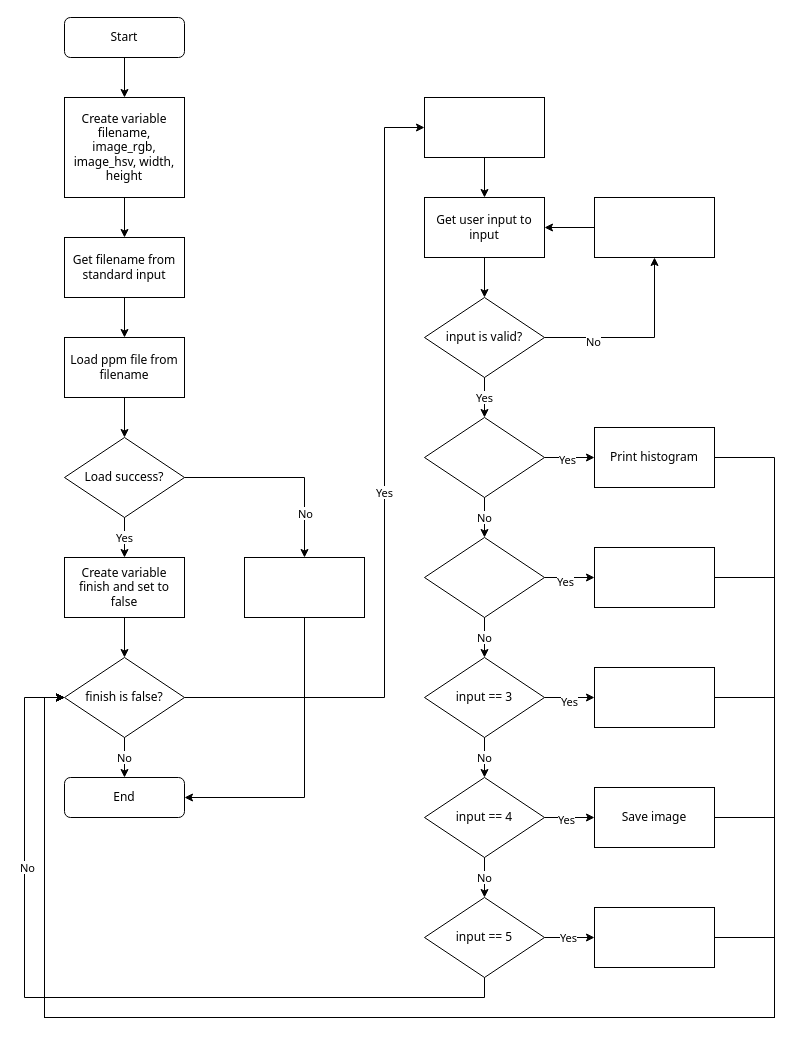
This 800x1043 diagram has some shape labels left out. The shapes that lost their labels are listed below. From the top down, each one's centre as x and y in pixels, then its label:
the point at 484,127: Create variable input
the point at 654,227: Print wrong input
the point at 484,457: input == 1
the point at 304,587: Print error message
the point at 484,577: input == 2
the point at 654,577: Print histogram & Change color
the point at 654,697: Print image
the point at 654,937: Set finish = true
